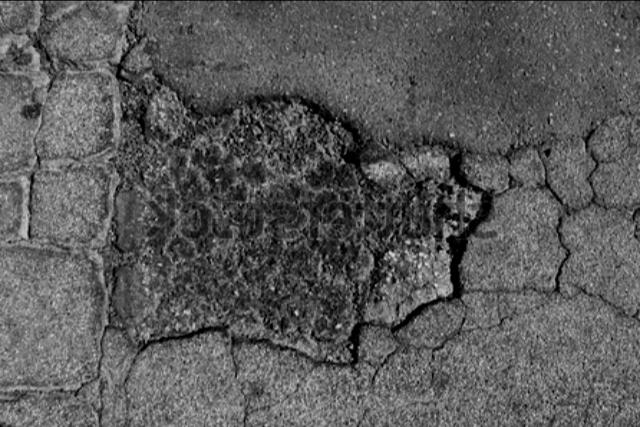Pothole: (62, 15, 546, 372)
